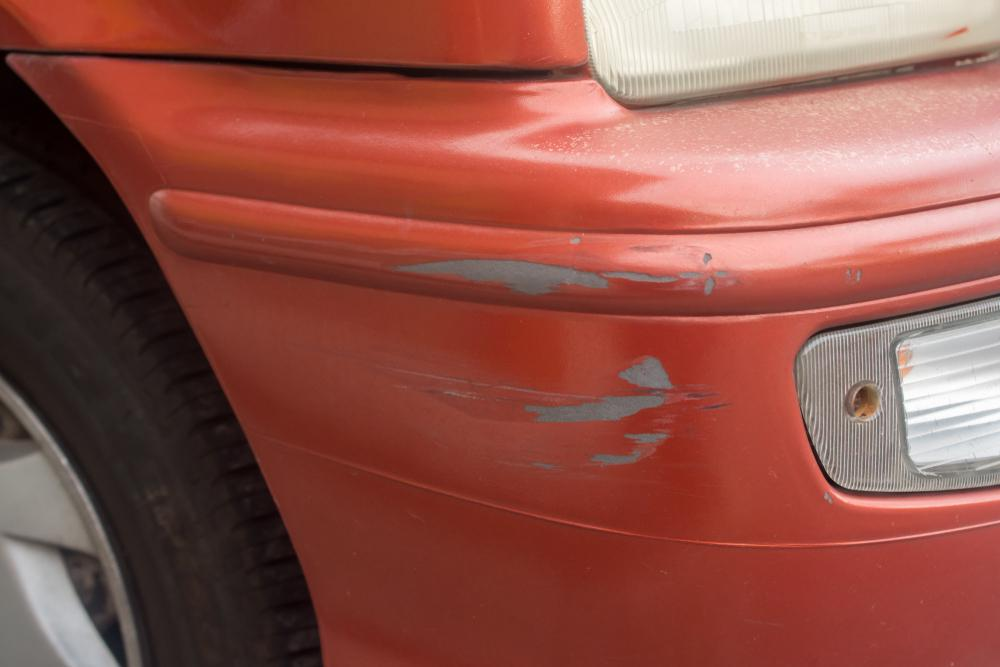scratch: (369, 228, 762, 490)
